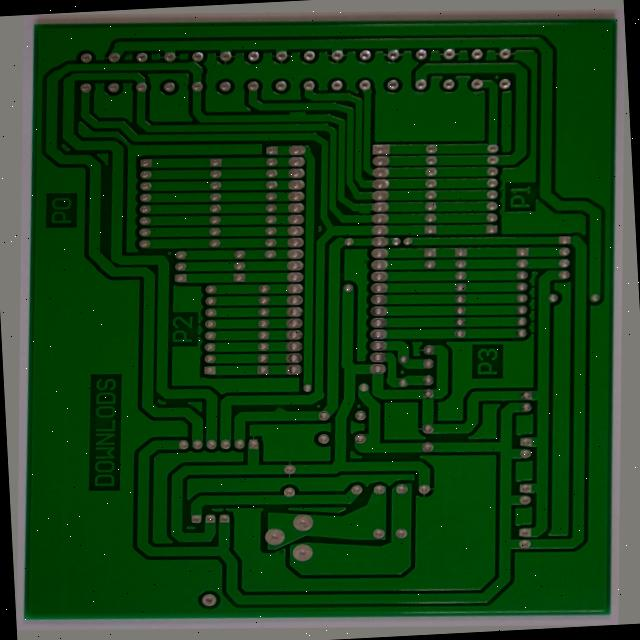spur: (268, 409, 296, 425), (267, 101, 295, 114), (348, 198, 369, 211)
